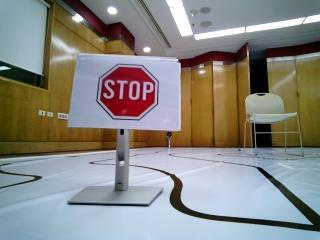stop: (81, 59, 175, 128)
